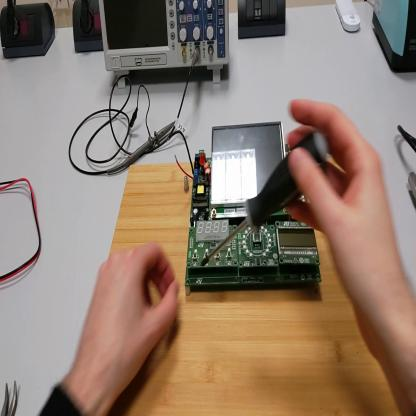hand: (284, 99, 403, 342), (78, 241, 180, 398)
low voltage board: (185, 123, 323, 289)
oscilloscope: (100, 1, 232, 87)
pliers: (1, 381, 20, 415), (409, 172, 416, 207)
screwdriver-: (203, 130, 332, 265)
socket: (2, 2, 57, 56), (73, 2, 104, 54)
welder station: (375, 2, 416, 74)
working area: (110, 163, 397, 416)
